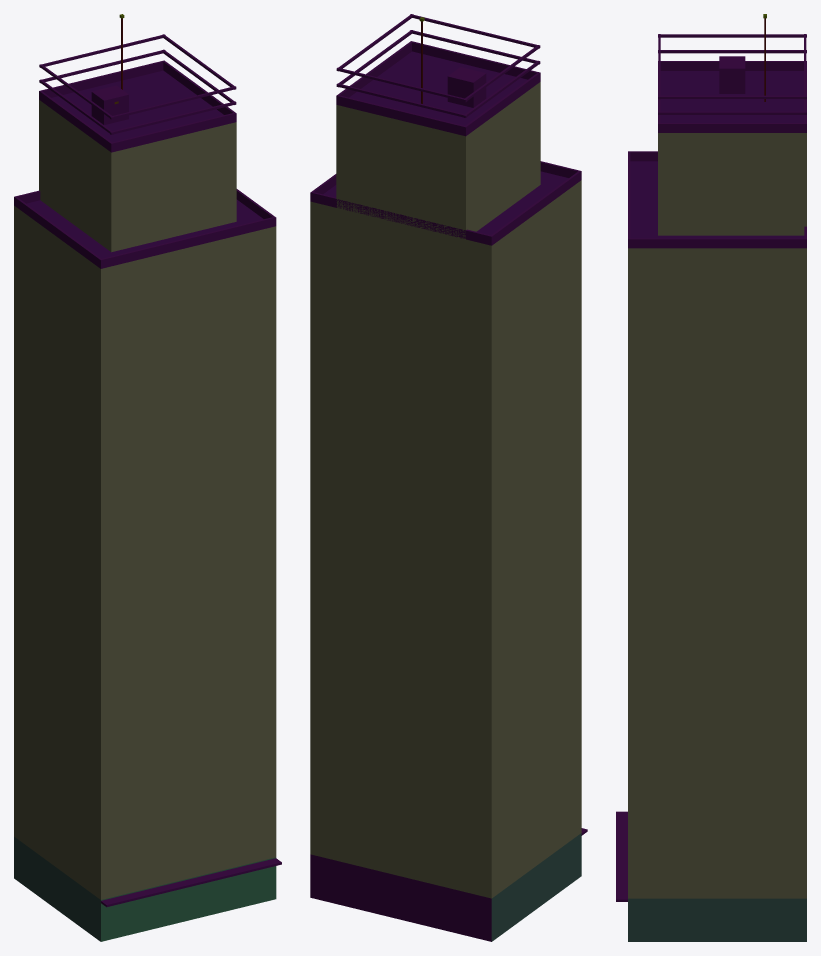
The model's file is commercial_d.lod1.glb.
3 renders of one model, left to right at view 1: azimuth 30°, elevation 25°; view 2: azimuth 150°, elevation 25°; view 3: azimuth 270°, elevation 25°, orthographic. The views are drawn at different scales.
Visible parts, largest first — view 1: commercial_d.lod1; view 2: commercial_d.lod1; view 3: commercial_d.lod1.
Part boxes in pixels (left/top/right/bottom): commercial_d.lod1: left=14, top=14, right=281, bottom=941; commercial_d.lod1: left=310, top=14, right=587, bottom=941; commercial_d.lod1: left=616, top=14, right=806, bottom=941.
Bounding box in the file's own units: 20.99 × 98.04 × 19.2.
